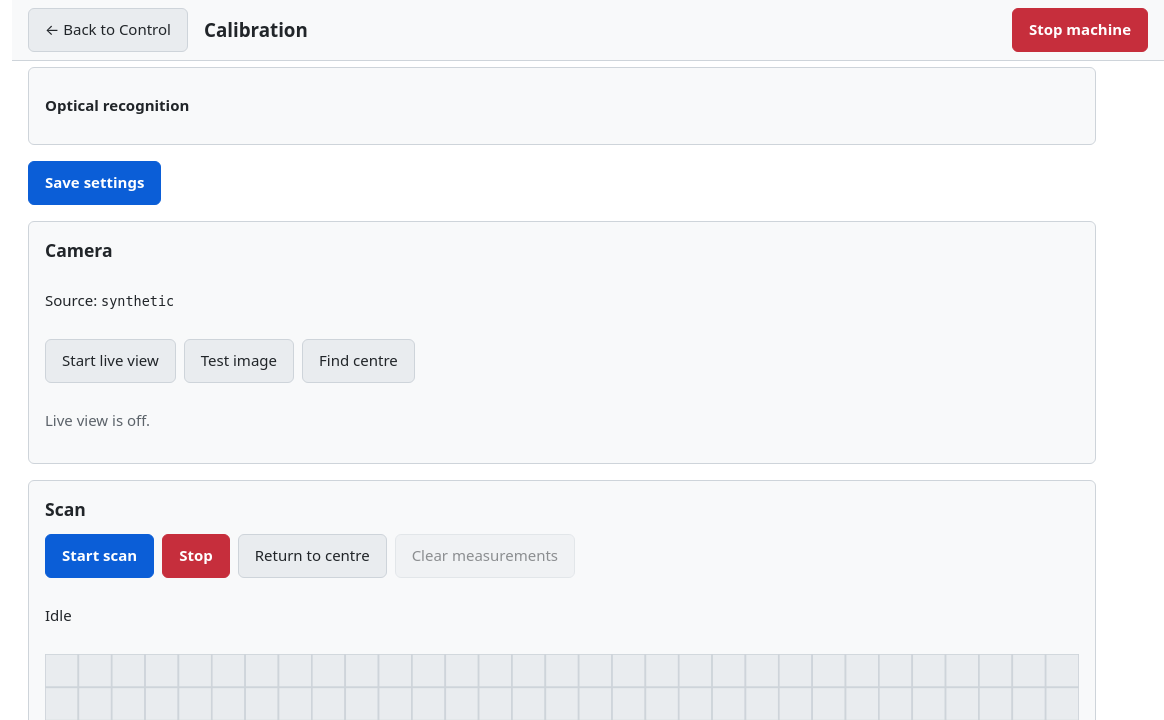
Test case: optical camera › puts the centre it found into the form, and reports a failure
(page scrolled)
What coordinates should you click on to do the following:
click the button "Find centre"
I would click on:
 (358, 361)
Its box is [302,339,415,383].
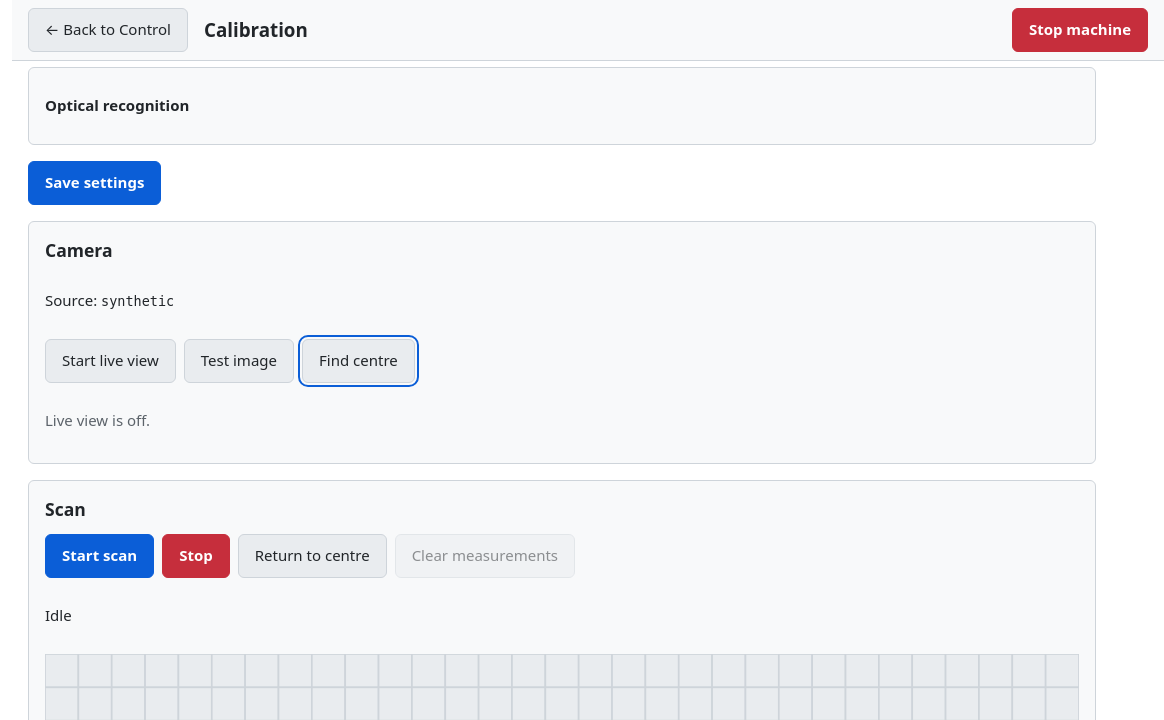
What coordinates should you click on to do the following:
click the button "Find centre"
I would click on:
 (358, 361)
Its box is [302,339,415,383].
(page scrolled)
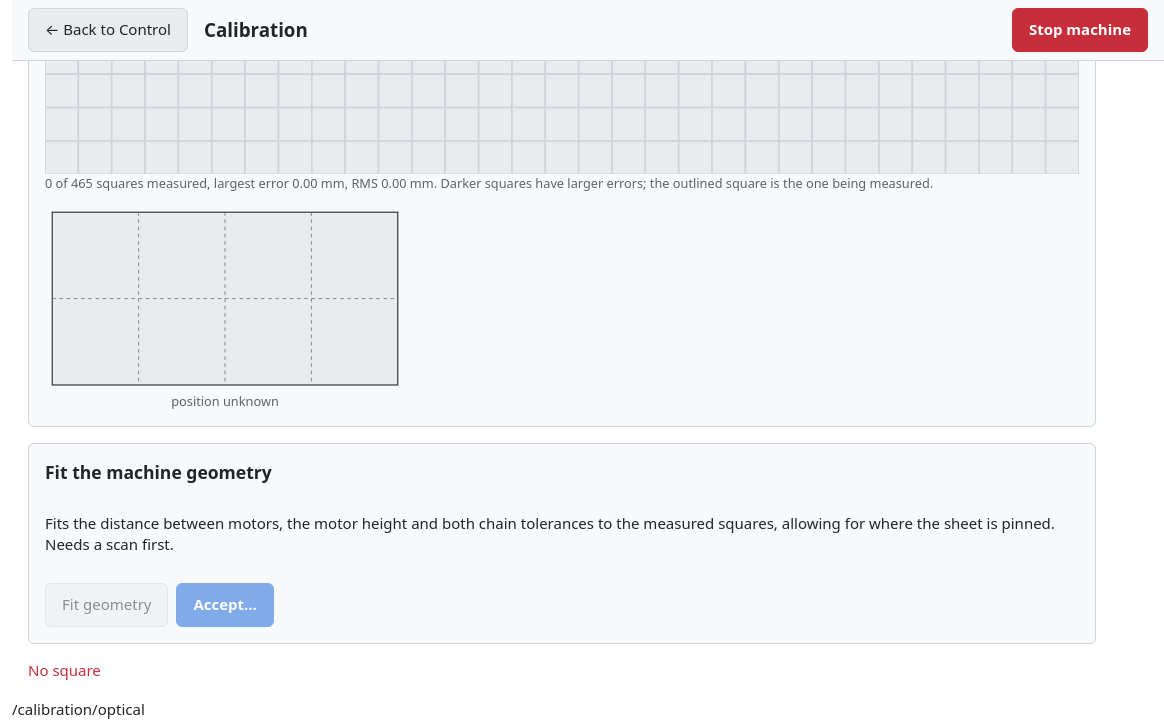
Check: the message named "Calibration status" reads "No square", box [28,660,101,680]
